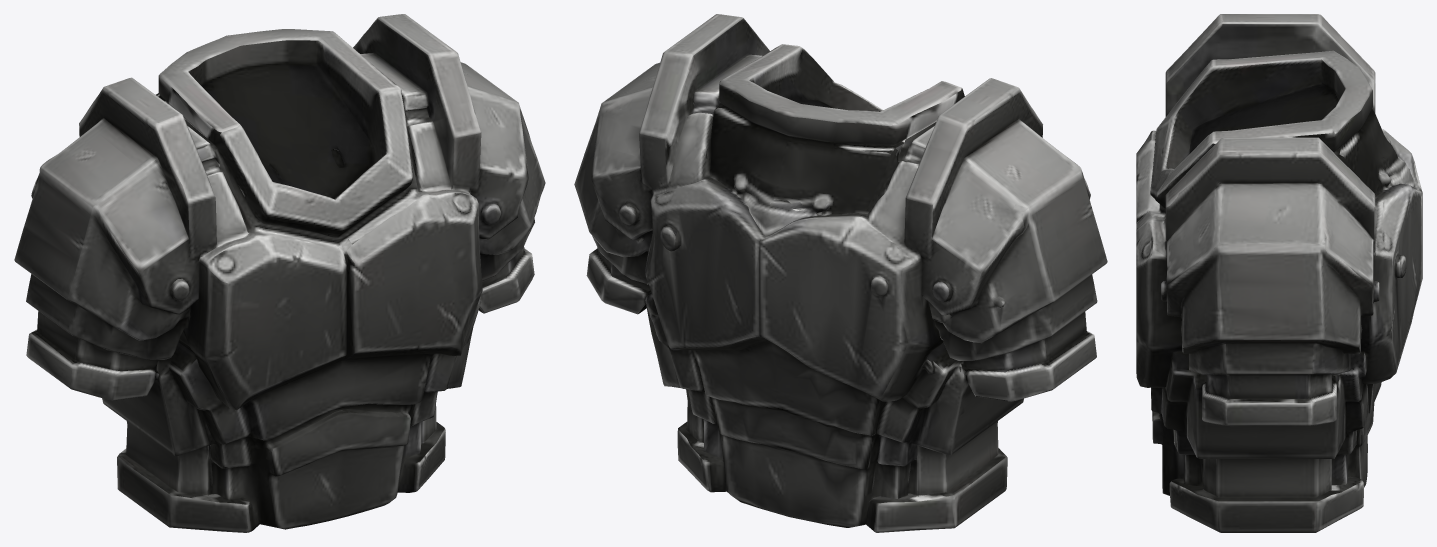
Rendered from celik_zirh.glb.
3 renders of one model, left to right at view 1: azimuth 30°, elevation 25°; view 2: azimuth 150°, elevation 25°; view 3: azimuth 270°, elevation 25°, orthographic. The views are drawn at different scales.
Parts seen in each view (by area): view 1: Armor; view 2: Armor; view 3: Armor.
Part boxes in pixels (x1,y1,x2,y2): Armor: [14, 14, 545, 532]; Armor: [574, 14, 1107, 532]; Armor: [1136, 14, 1422, 532].
Bounding box in the file's own units: 0.633 × 0.55 × 0.3453.
Materials: 1 (1 with a texture image).
